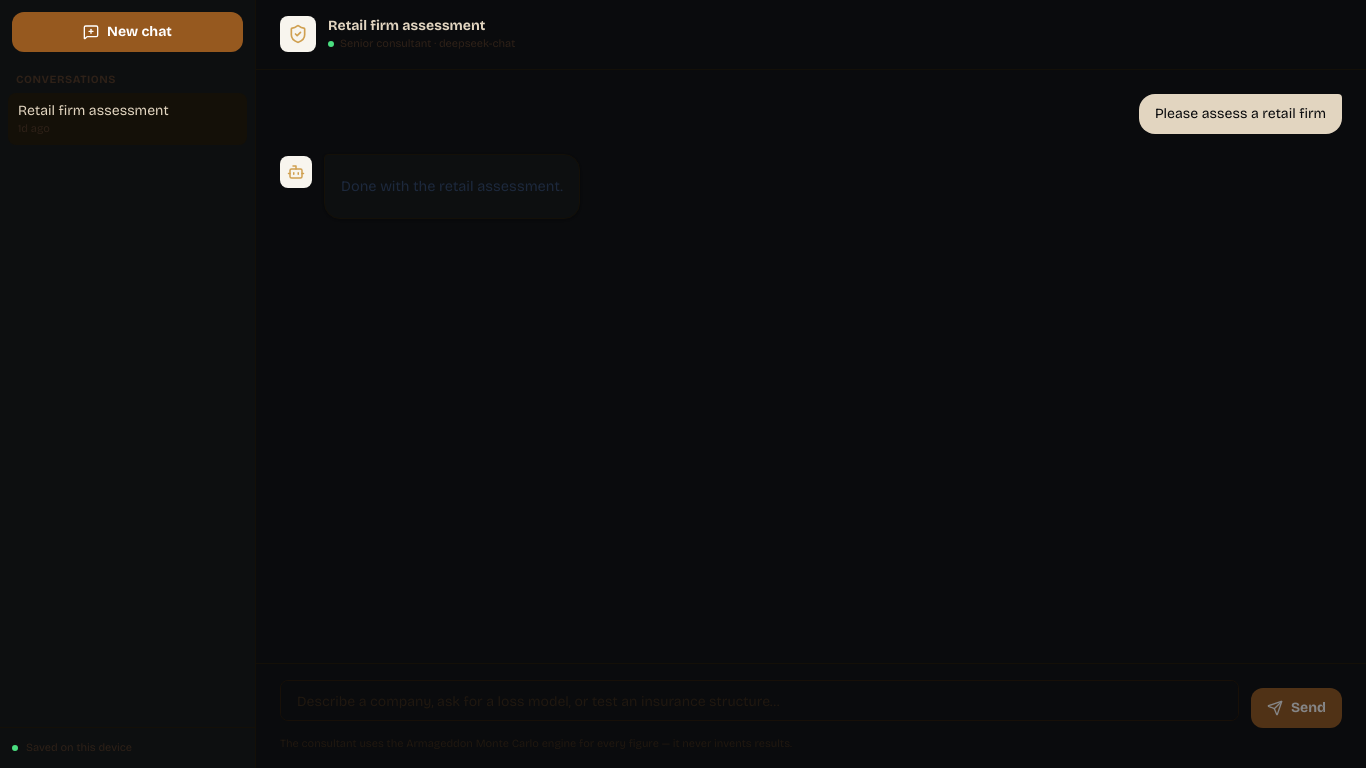
Scenario: Consultant sidebar › New chat creates a session and keeps the previous one in the sidebar
Click the button "New chat". click: click(128, 32)
box: 12,12 -> 243,52
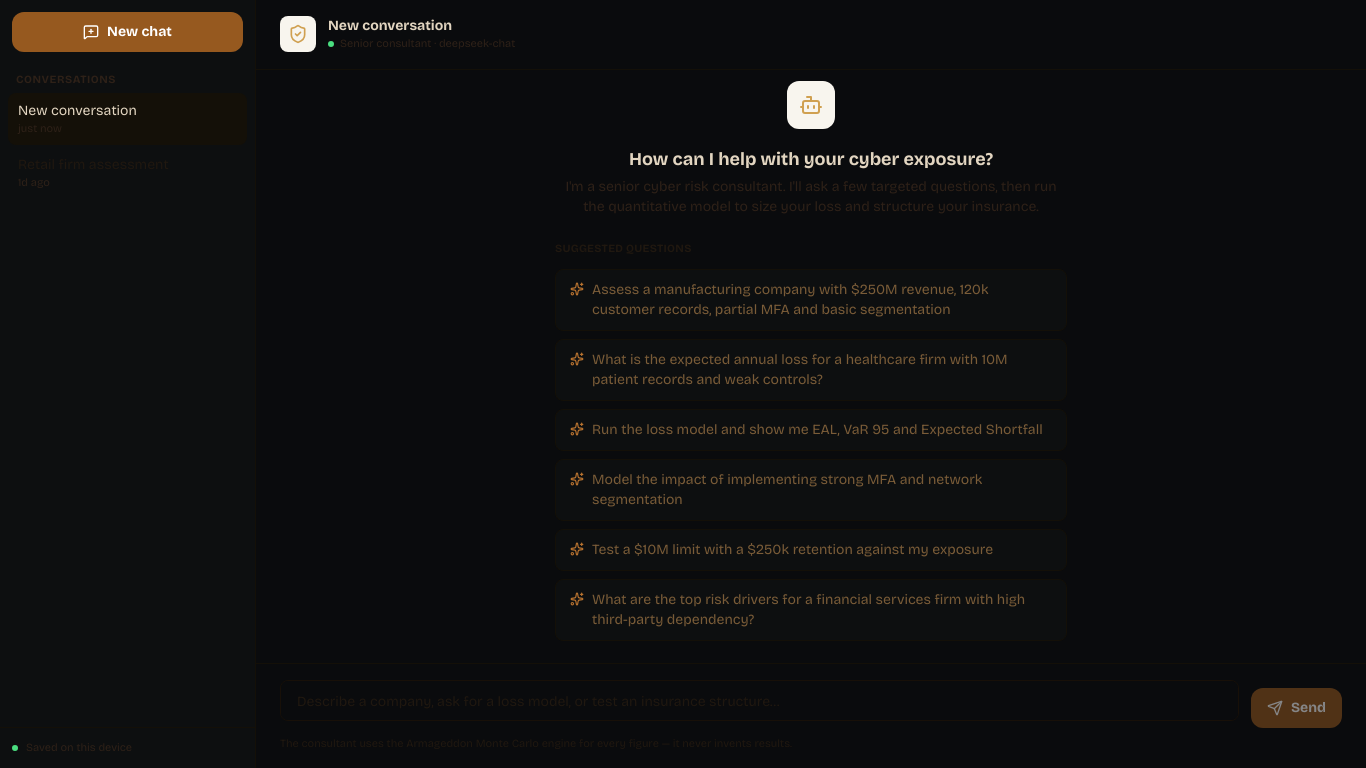
Result: the heading "How can I help with your cyber exposure?" is shown at 629,148 -> 993,170
